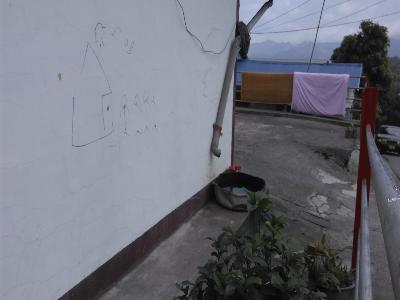bowl: (210, 169, 268, 215)
